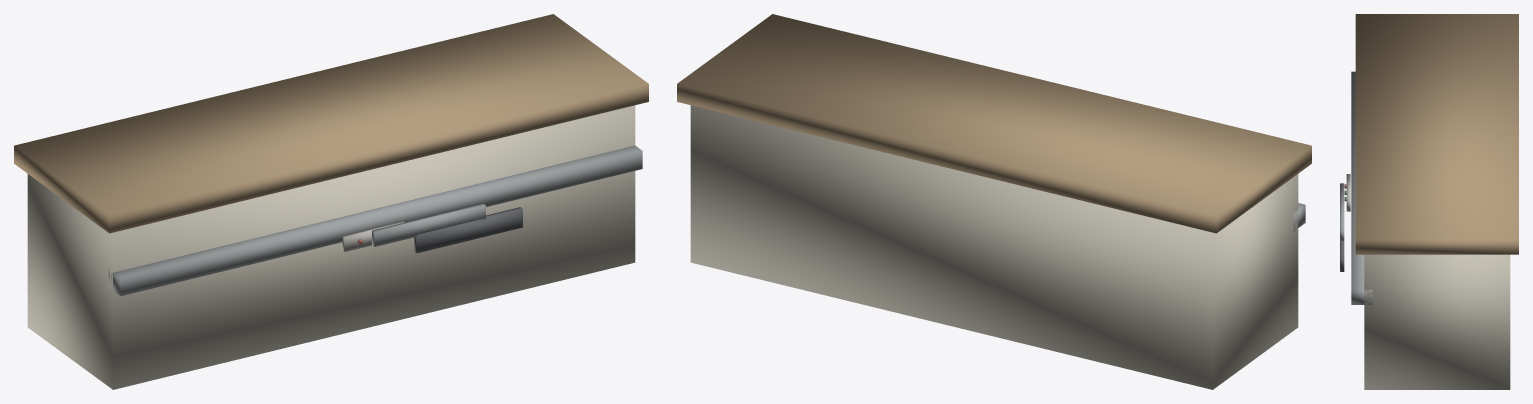
Rendered from diner_counter__weathered.glb.
3 views of the same model, side by side, from view 1: azimuth 30°, elevation 25°; view 2: azimuth 150°, elevation 25°; view 3: azimuth 270°, elevation 25° (orthographic). The views are drawn at different scales.
Visible parts, largest first — view 1: world; view 2: world; view 3: world.
Boxes of the visible parts, x1=… form: world: x1=14, y1=14, x2=648, y2=389; world: x1=677, y1=14, x2=1311, y2=389; world: x1=1340, y1=14, x2=1518, y2=389.
Bounding box in the file's own units: 2.48 × 0.792 × 0.8325.
